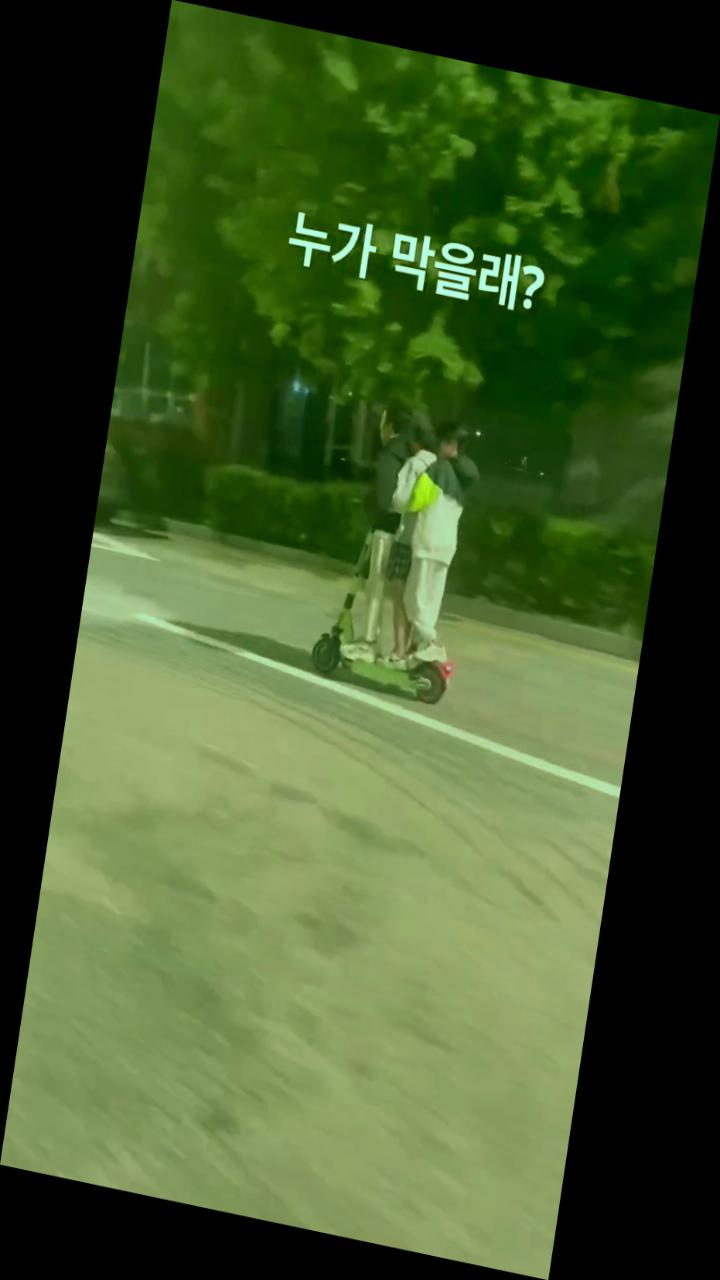multiple: (302, 383, 495, 713)
